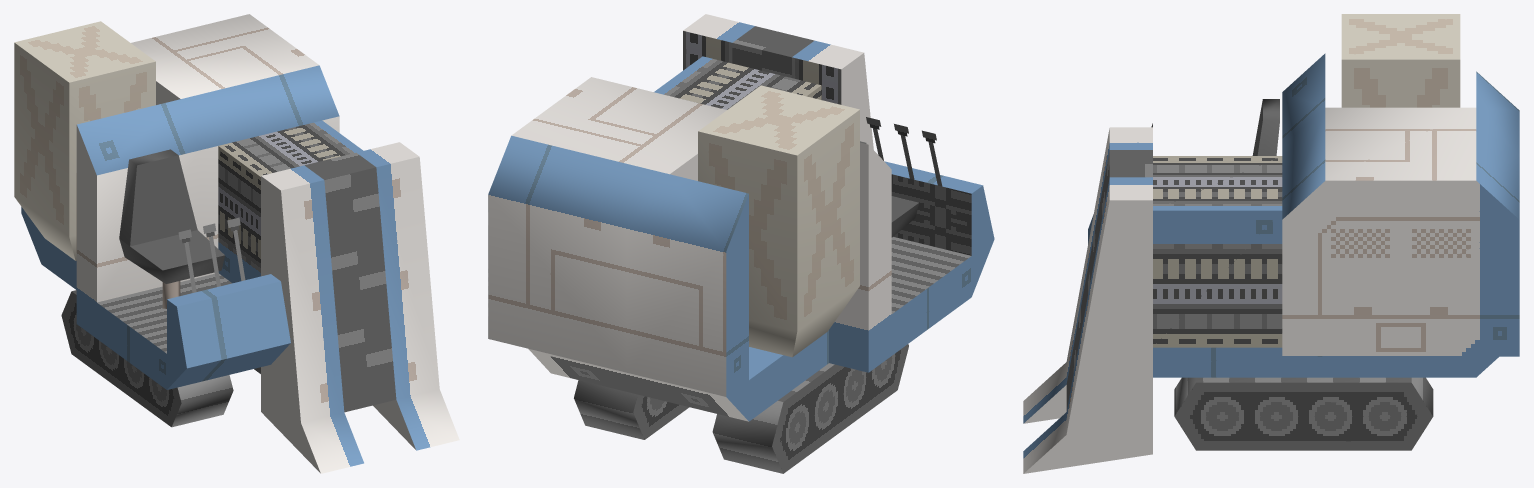
File: 0098_Combine_Harvester.glb
3 views of the same model, side by side, from view 1: azimuth 30°, elevation 25°; view 2: azimuth 150°, elevation 25°; view 3: azimuth 270°, elevation 25° (orthographic). The views are drawn at different scales.
Visible parts, largest first — view 1: part_0, part_1, part_2; view 2: part_0, part_2, part_1; view 3: part_0, part_1, part_2.
Part boxes in pixels (left/top/right/bottom): part_0: left=14, top=14, right=459, bottom=473; part_1: left=305, top=152, right=396, bottom=412; part_2: left=72, top=290, right=233, bottom=427; part_0: left=488, top=14, right=994, bottom=473; part_2: left=574, top=363, right=834, bottom=473; part_1: left=732, top=26, right=814, bottom=77; part_0: left=1023, top=14, right=1519, bottom=473; part_1: left=1066, top=150, right=1152, bottom=410; part_2: left=1174, top=377, right=1433, bottom=416.
Size of the model in its own units: 1.4 by 1.7 by 2.3.
Materials: 3 (3 with a texture image).
